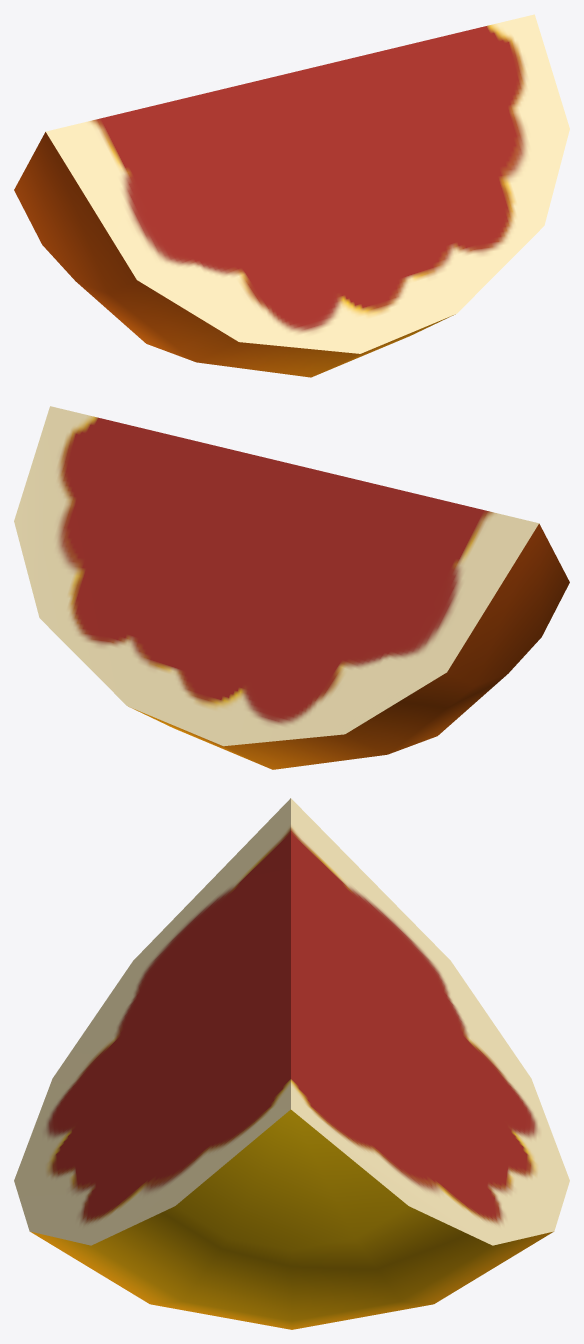
Rendered from Grapefruit_Slice_02.glb.
3 renders of one model, top to bottom at view 1: azimuth 30°, elevation 25°; view 2: azimuth 150°, elevation 25°; view 3: azimuth 270°, elevation 25°, orthographic. The views are drawn at different scales.
Visible parts, largest first — view 1: Grapefruit_Slice_02; view 2: Grapefruit_Slice_02; view 3: Grapefruit_Slice_02.
Part boxes in pixels (<box>): Grapefruit_Slice_02: <box>14,14,569,377</box>; Grapefruit_Slice_02: <box>14,406,569,769</box>; Grapefruit_Slice_02: <box>14,798,569,1329</box>.
Bounding box in the file's own units: 0.2303 × 0.1239 × 0.1754.
Materials: 1 (1 with a texture image).
